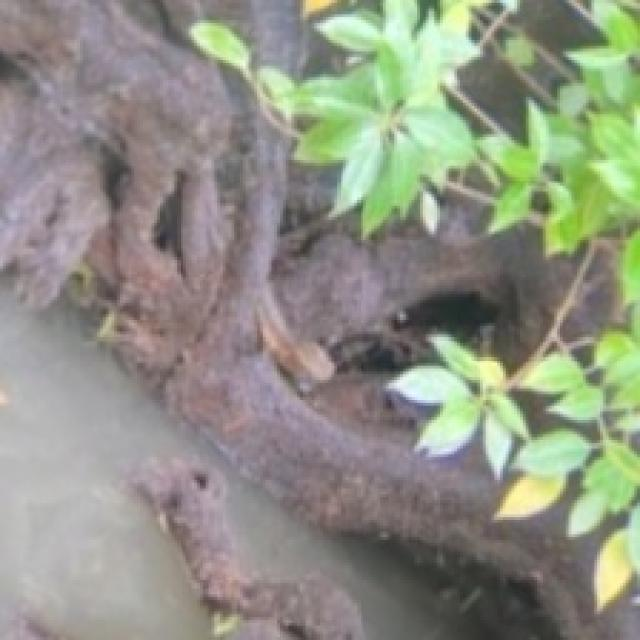king cobra: (0, 0, 609, 637), (0, 503, 194, 637), (277, 243, 494, 343)
